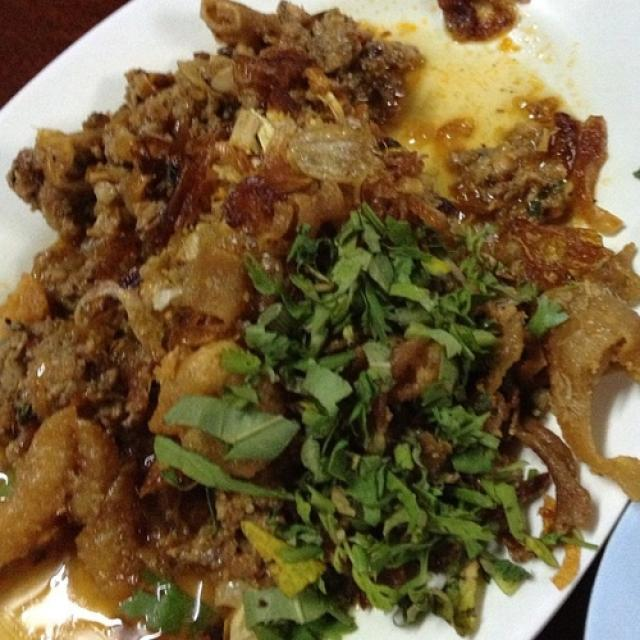鸡肉料理 含炸鸡: (12, 15, 584, 599)
